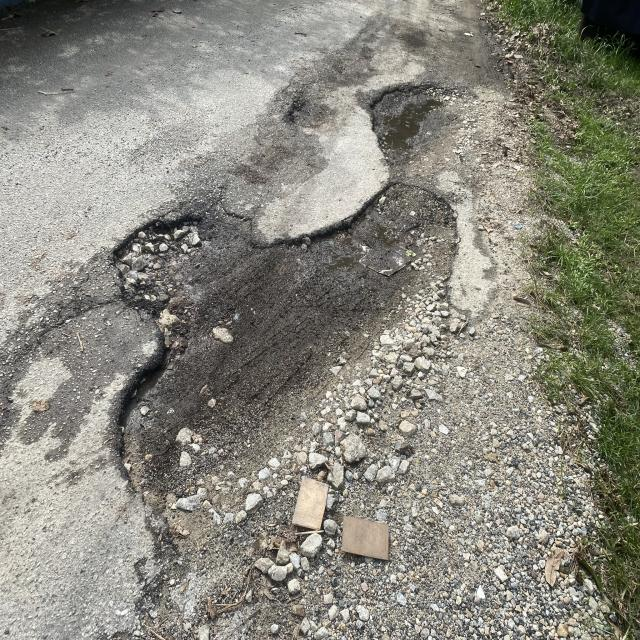Pothole: (84, 181, 204, 534), (341, 53, 473, 214)
